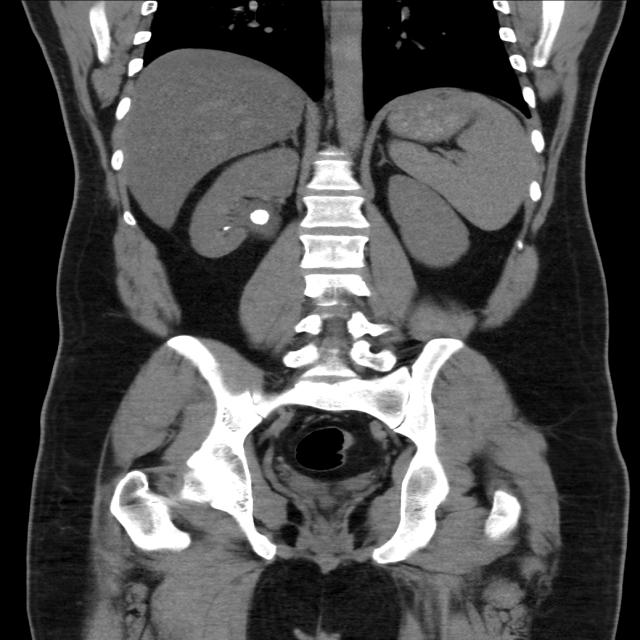kidneystone: (250, 209, 269, 225), (222, 226, 228, 231)
